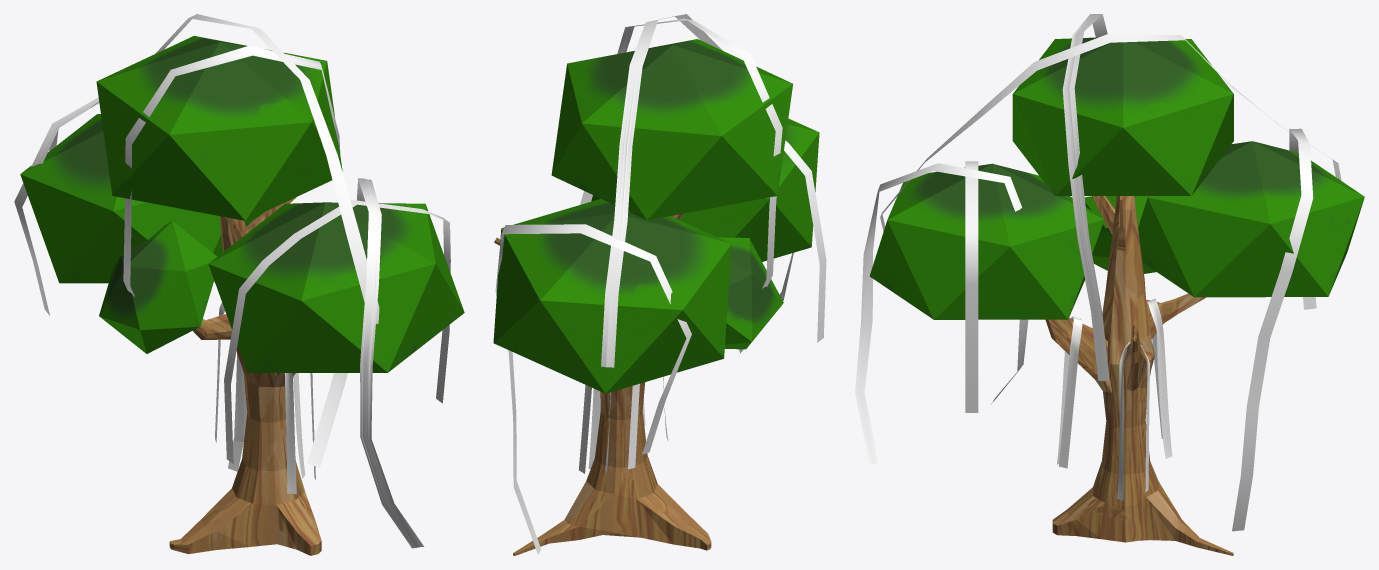
File: Live_Tree_TP.fbx
3 views of the same model, side by side, from view 1: azimuth 30°, elevation 25°; view 2: azimuth 150°, elevation 25°; view 3: azimuth 270°, elevation 25° (orthographic). The views are drawn at different scales.
Parts seen in each view (by area): view 1: Live_Tree_002_TP, TP004, TP006, TP005, TP2, TP003, TP008, TP007, TP; view 2: Live_Tree_002_TP, TP006, TP003, TP2, TP005, TP, TP007; view 3: Live_Tree_002_TP, TP003, TP2, TP004, TP005, TP006, TP008, TP007, TP.
Boxes of the visible parts, <box> form: Live_Tree_002_TP: <box>20,36,464,555</box>; TP004: <box>307,178,424,548</box>; TP006: <box>49,14,379,323</box>; TP005: <box>224,199,450,463</box>; TP2: <box>123,45,340,296</box>; TP003: <box>14,97,247,471</box>; TP008: <box>284,373,315,494</box>; TP007: <box>215,302,244,442</box>; TP: <box>293,373,305,478</box>; Live_Tree_002_TP: <box>493,39,819,555</box>; TP006: <box>601,14,722,367</box>; TP003: <box>495,224,691,554</box>; TP2: <box>580,18,782,288</box>; TP005: <box>784,140,826,342</box>; TP: <box>578,385,600,473</box>; TP007: <box>604,383,639,472</box>; Live_Tree_002_TP: <box>869,37,1364,555</box>; TP003: <box>1232,128,1316,531</box>; TP2: <box>1062,14,1109,381</box>; TP004: <box>855,163,1028,464</box>; TP005: <box>965,161,978,412</box>; TP006: <box>880,34,1341,231</box>; TP008: <box>1057,316,1082,468</box>; TP007: <box>1147,298,1172,458</box>; TP: <box>1117,342,1149,500</box>.
Bounding box in the file's own units: 162 × 268 × 281.
